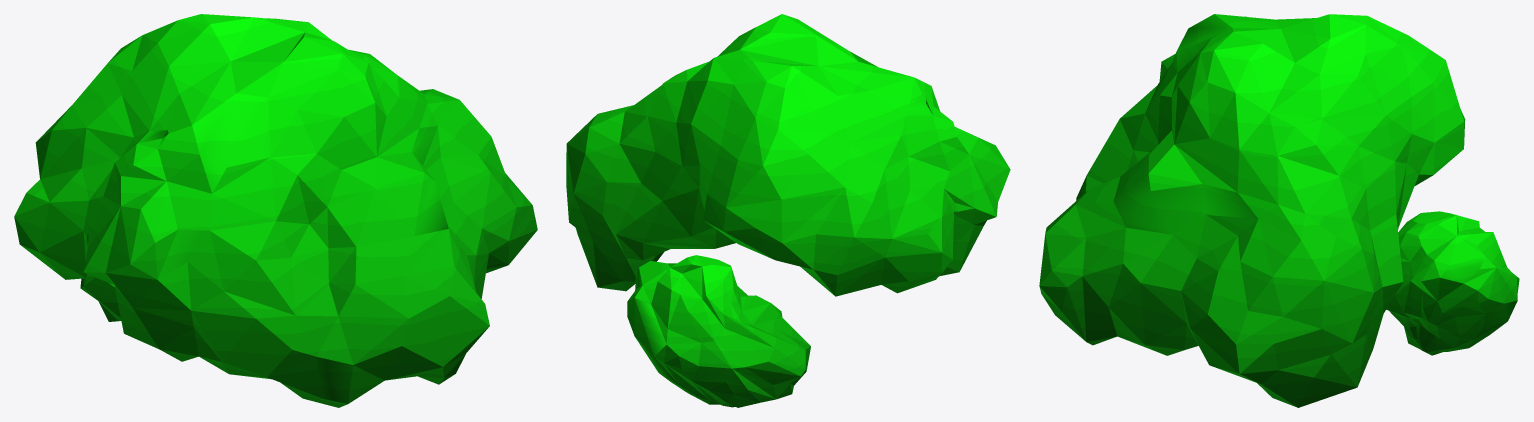
File: Prefab_Foliage_Tree_Oak_Leaves_B.glb
The picture shows the model from 3 angles, left to right: view 1: azimuth 30°, elevation 25°; view 2: azimuth 150°, elevation 25°; view 3: azimuth 270°, elevation 25°; orthographic projection. The views are drawn at different scales.
Visible parts, largest first — view 1: OakTree_A_Trunk.002; view 2: OakTree_A_Trunk.002; view 3: OakTree_A_Trunk.002.
Part boxes in pixels (x1,y1,x2,y2): OakTree_A_Trunk.002: (14,14,537,407); OakTree_A_Trunk.002: (566,14,1010,407); OakTree_A_Trunk.002: (1039,14,1519,407).
Size of the model in its own units: 12.91 by 9.2 by 12.12.
Materials: 1 (1 with a texture image).
